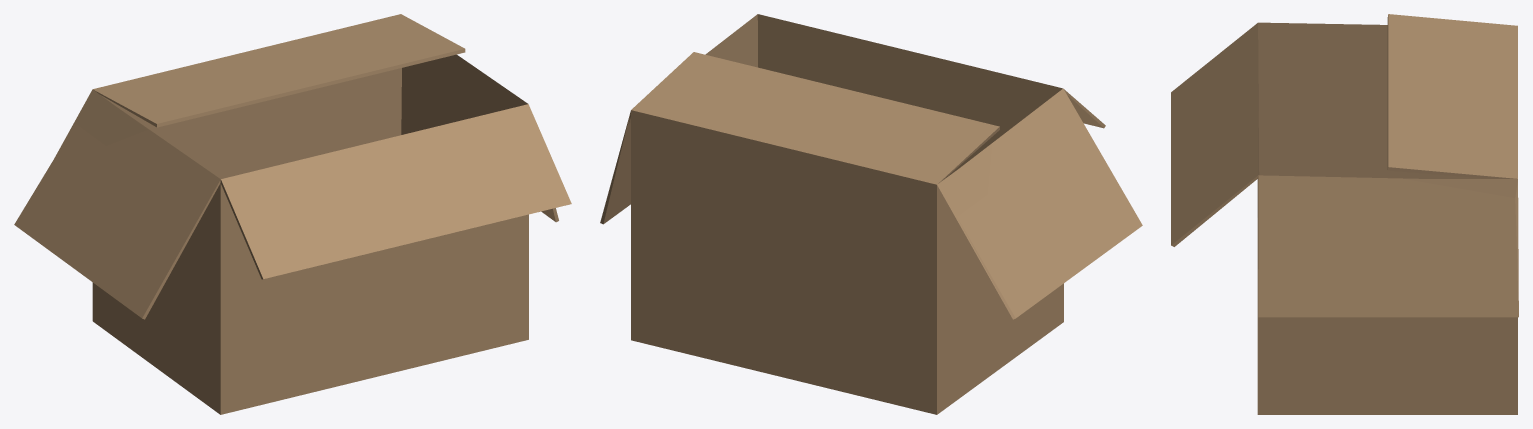
Rendered from cajaNormal.glb.
3 views of the same model, side by side, from view 1: azimuth 30°, elevation 25°; view 2: azimuth 150°, elevation 25°; view 3: azimuth 270°, elevation 25° (orthographic). The views are drawn at different scales.
Visible parts, largest first — view 1: Cube; view 2: Cube; view 3: Cube.
Part boxes in pixels (box(x1,y1,x2,y2)): Cube: box(14, 14, 571, 414); Cube: box(600, 14, 1142, 414); Cube: box(1171, 14, 1518, 414).
Bounding box in the file's own units: 3.77 × 2.1 × 2.67.
